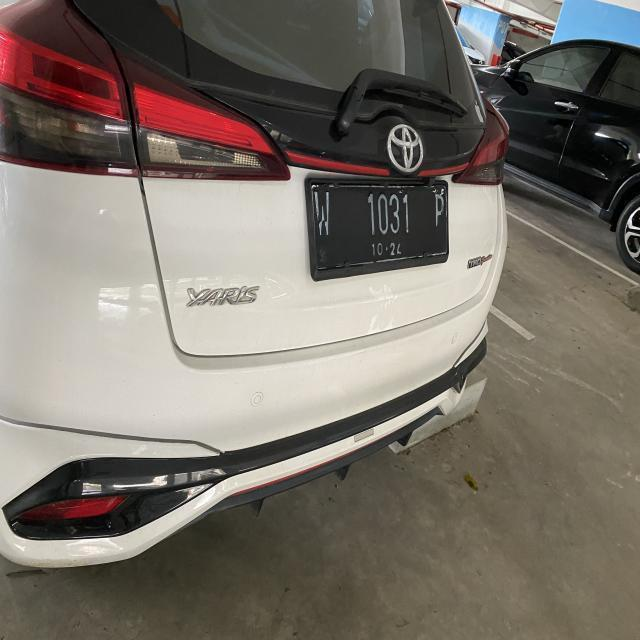0: (376, 192, 391, 234)
1: (366, 190, 375, 238), (402, 190, 410, 234)
3: (389, 191, 402, 236)
P: (432, 191, 446, 227)
W: (313, 187, 336, 242)
